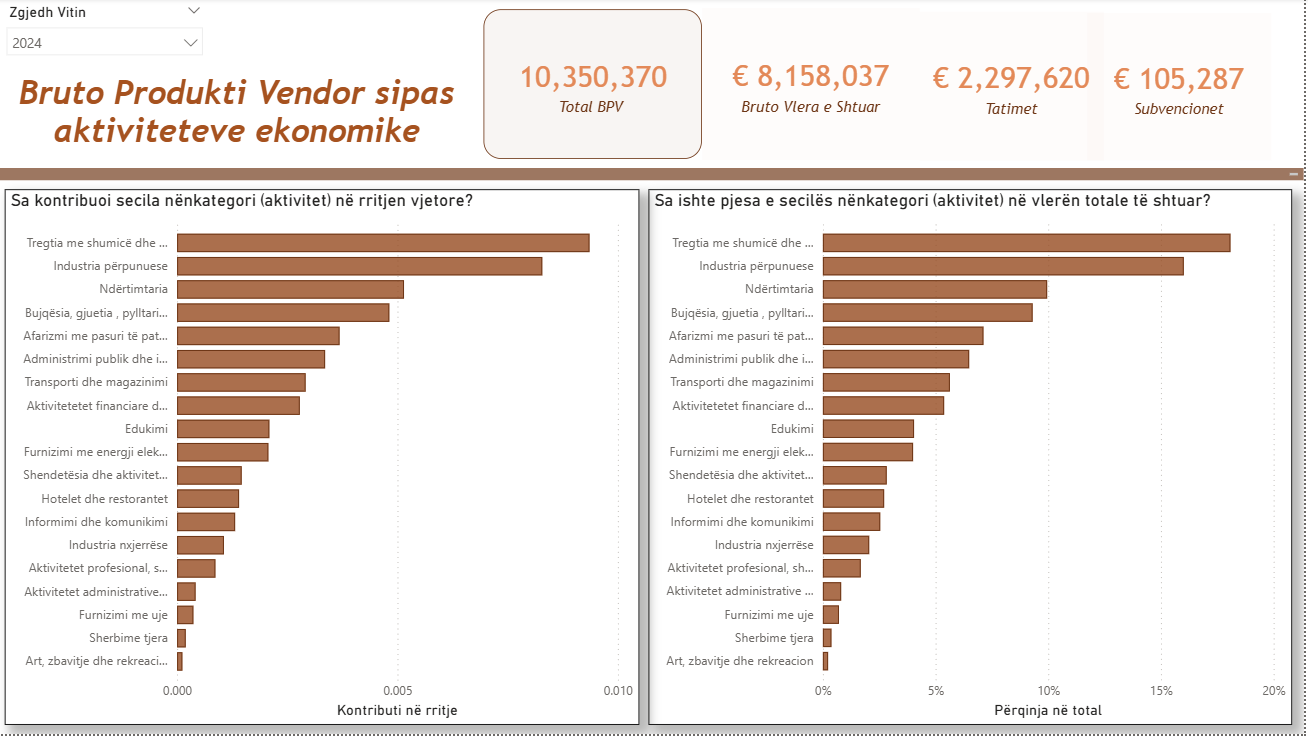

This screenshot's page, from the dashboard's own definition file:
{"tool":"powerbi","page":{"name":"BPV - Prodhimi","canvas":[1280,720],"ordinal":0},"visuals":[{"type":"textbox","box":[8.6,68.5,453.7,89.3],"z":0},{"type":"card","fields":{"Values":["_Measures.BVSH_Nominal"]},"box":[690.9,9.8,212.8,149.2],"z":1000},{"type":"card","fields":{"Values":["_Measures.Tatimet_nominal"]},"box":[903.7,13.5,179.8,145.5],"z":2000},{"type":"card","fields":{"Values":["_Measures.GDP_nominale_totale"]},"box":[476.9,11,214,146.7],"z":3000},{"type":"clusteredBarChart","title":"Sa ishte pjesa e secilës nënkategori (aktivitet) në vlerën totale të shtuar?","fields":{"Y":["_Measures.nominal_shares"],"Category":["gdp_nominale.Kategory_name"]},"box":[638.9,187.4,629.9,524.1],"z":4000},{"type":"slicer","fields":{"Values":["Data_Table.Year"]},"box":[0,0,212.8,57.5],"z":5000},{"type":"textbox","box":[0,166.8,1278.9,12.1],"z":6000},{"type":"clusteredBarChart","title":"Sa kontribuoi secila nënkategori (aktivitet) në rritjen vjetore?","fields":{"Category":["gdp_nominale.Kategory_name"],"Y":["_Measures.Nominal BVSH contribution"]},"box":[9.2,187,621.2,524.4],"z":7000},{"type":"card","fields":{"Values":["_Measures.Subvencionet_nominal"]},"box":[1067.5,14.7,179.8,144.3],"z":8000},{"type":"card","fields":{"Values":["_Measures.Contribution Warning"]},"box":[679.3,126.1,600.7,38],"z":9000},{"type":"card","fields":{"Values":["_Measures.Mesazhi kur nuk ka te dhena"]},"box":[691.5,126.1,588.5,62.4],"z":10000}]}

Visuals, with their boxes in screenshot pixels (x1, y1, x2, y2), scaled from the page's 1280x720 canvas onto the 1308x737 screenshot:
textbox: x1=9 y1=70 x2=472 y2=162
card - _Measures.BVSH_Nominal: x1=706 y1=10 x2=923 y2=163
card - _Measures.Tatimet_nominal: x1=923 y1=14 x2=1107 y2=163
card - _Measures.GDP_nominale_totale: x1=487 y1=11 x2=706 y2=161
"Sa ishte pjesa e secilës nënkategori (aktivitet) në vlerën totale të shtuar?" clusteredBarChart: x1=653 y1=192 x2=1297 y2=728
slicer - Data_Table.Year: x1=0 y1=0 x2=217 y2=59
textbox: x1=0 y1=171 x2=1307 y2=183
"Sa kontribuoi secila nënkategori (aktivitet) në rritjen vjetore?" clusteredBarChart: x1=9 y1=191 x2=644 y2=728
card - _Measures.Subvencionet_nominal: x1=1091 y1=15 x2=1275 y2=163
card - _Measures.Contribution Warning: x1=694 y1=129 x2=1307 y2=168
card - _Measures.Mesazhi kur nuk ka te dhena: x1=707 y1=129 x2=1307 y2=193
